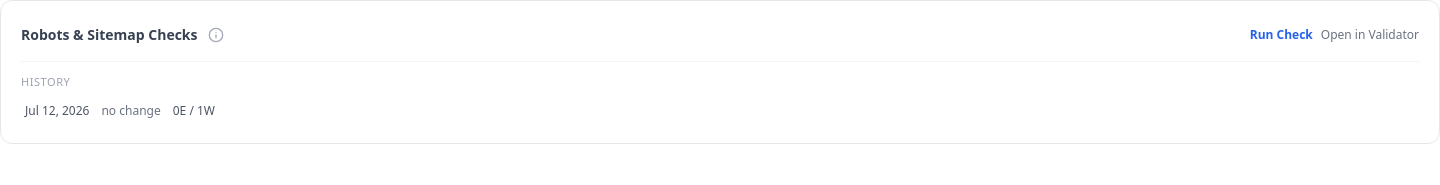
Test: changed-vs-previous section (D5) › no section when the row did not change
The width and height of the screenshot is (1440, 185).
Click the button "Jul 12, 2026 no change 0E / 1W" at x=57, y=110, box [21,98,1419,122]
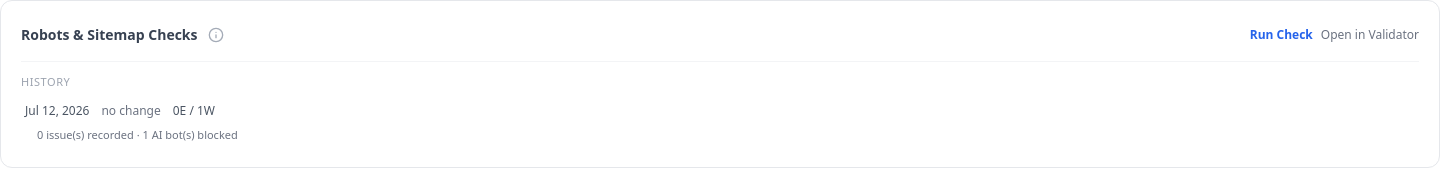
Now the text "0 issue(s) recorded · 1 AI bot(s) blocked" is shown, box [37,126,238,142]
